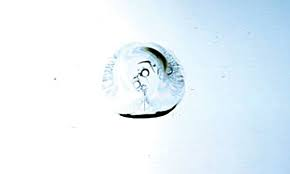bullseye: (87, 26, 208, 129)
